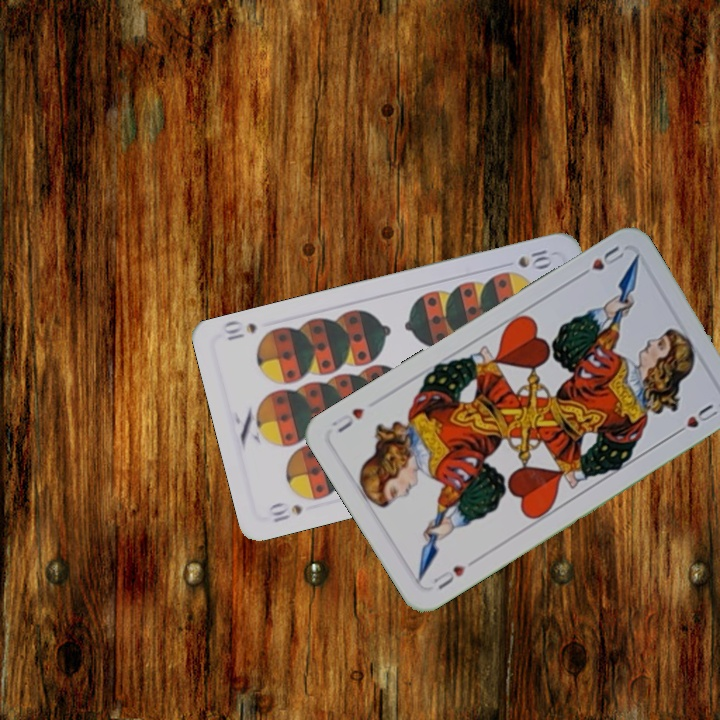HU: (573, 242, 627, 281), (428, 561, 468, 592)
S10: (514, 245, 555, 272), (265, 498, 306, 525)
